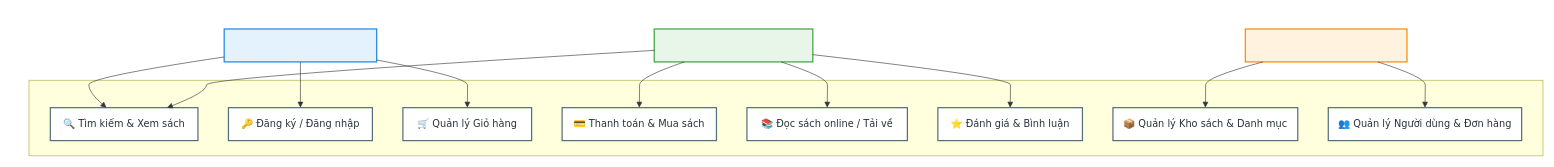
Some shapes in this 1554 by 167 pixel diagram are drawn without their labels. Each missing label, with the box of its shape:
👤 Khách chưa đăng nhập: (223, 28, 377, 62)
👨💼 Quản trị viên (Admin): (1244, 28, 1407, 62)
📖 HỆ THỐNG BÁN SÁCH ĐIỆN TỬ: (28, 80, 1543, 156)
🧑🎓 Độc giả / Người mua: (653, 28, 813, 62)
